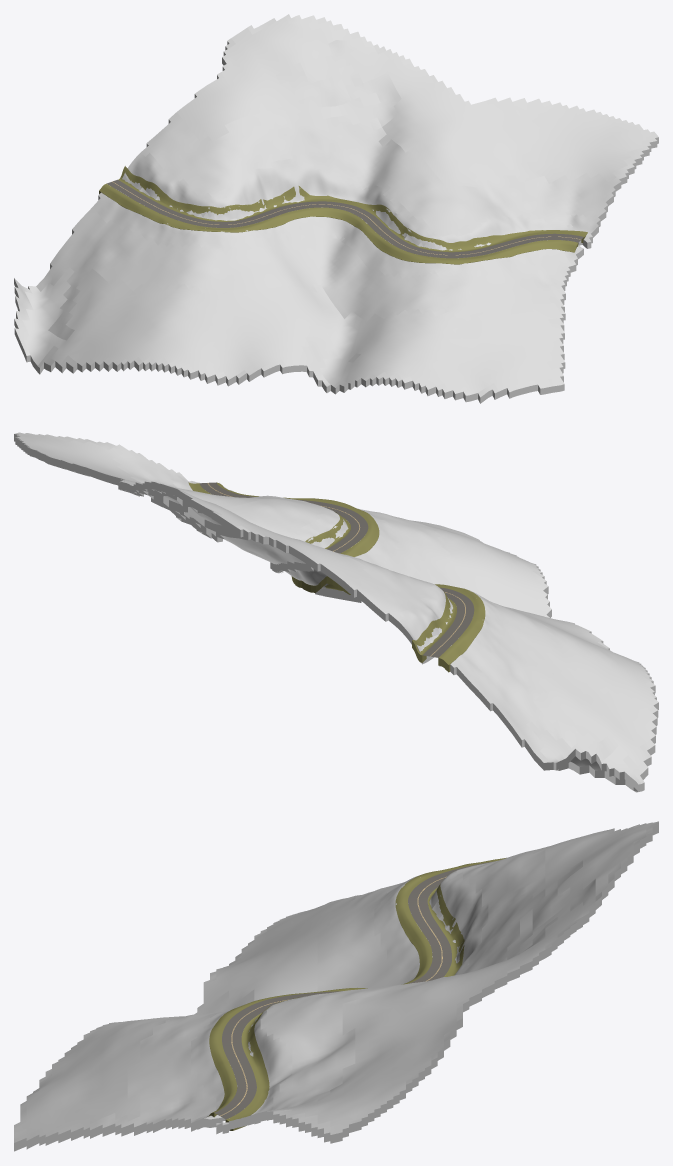
File: conz_184.glb
3 views of the same model, one above another, from view 1: azimuth 30°, elevation 25°; view 2: azimuth 150°, elevation 25°; view 3: azimuth 270°, elevation 25° (orthographic). The views are drawn at different scales.
Visible parts, largest first — view 1: terrain184, verge184L, verge184R, road184; view 2: terrain184, road184, verge184L, verge184R; view 3: terrain184, road184, verge184L, verge184R.
Boxes of the visible parts, x1=… form: terrain184: x1=14, y1=14, x2=658, y2=403; verge184L: x1=99, y1=183, x2=578, y2=264; verge184R: x1=118, y1=166, x2=587, y2=252; road184: x1=107, y1=179, x2=583, y2=258; terrain184: x1=14, y1=432, x2=658, y2=792; road184: x1=199, y1=482, x2=474, y2=657; verge184L: x1=217, y1=482, x2=485, y2=672; verge184R: x1=188, y1=482, x2=456, y2=662; terrain184: x1=14, y1=821, x2=658, y2=1151; road184: x1=214, y1=861, x2=494, y2=1119; verge184L: x1=207, y1=857, x2=506, y2=1117; verge184R: x1=225, y1=884, x2=464, y2=1130.
Bounding box in the file's own units: 284 × 107 × 204.
